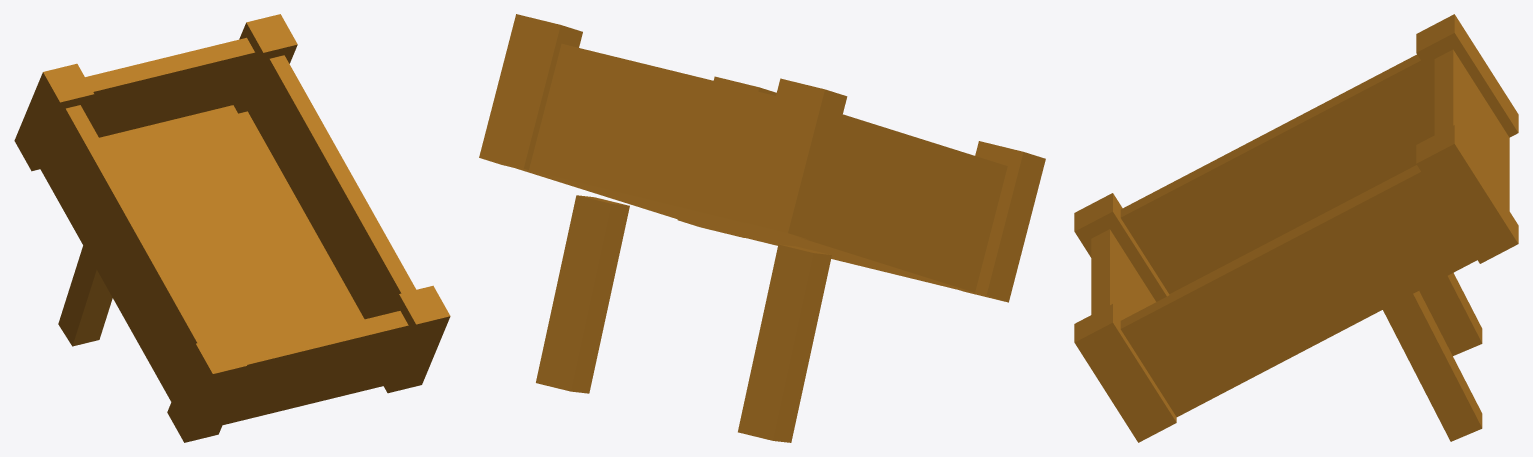
3 renders of one model, left to right at view 1: azimuth 30°, elevation 25°; view 2: azimuth 150°, elevation 25°; view 3: azimuth 270°, elevation 25°, orthographic. The views are drawn at different scales.
Visible parts, largest first — view 1: Box010; view 2: Box010; view 3: Box010.
Boxes of the visible parts, x1,y1,x2,y2 form: Box010: (14,14,450,442); Box010: (479,14,1045,442); Box010: (1074,14,1518,442).
Bounding box in the file's own units: 5.48 × 6.17 × 7.93.
